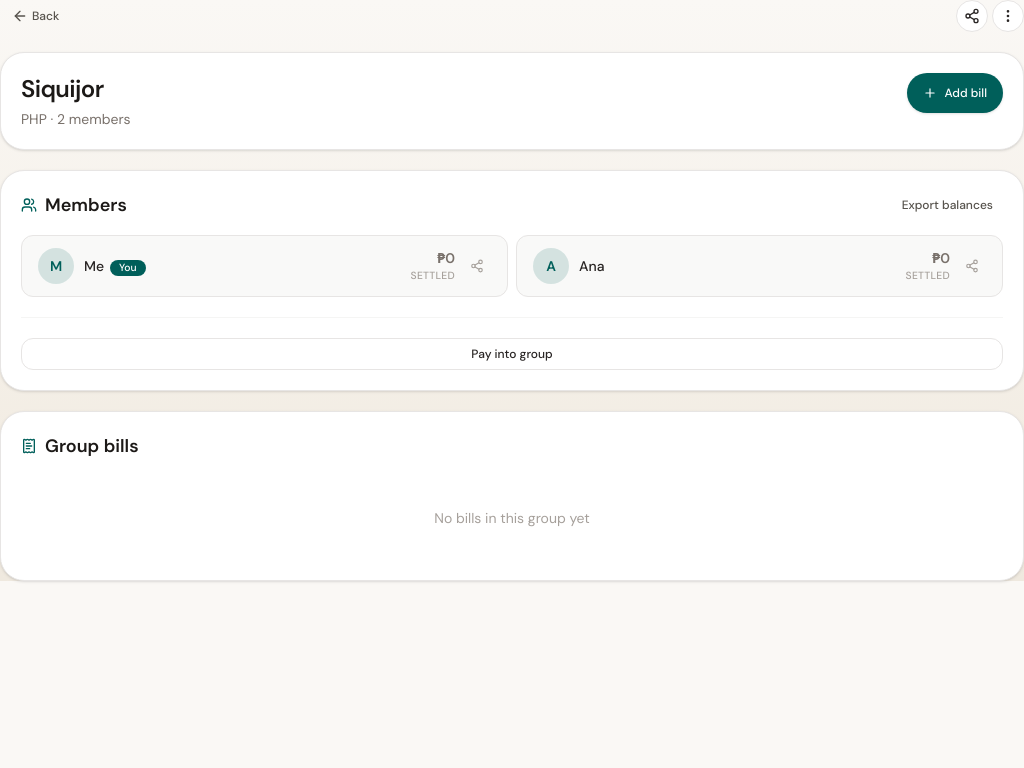
Test: GroupDetailPage payment history, server-paged (C8) › C8: the payments list reads the first page and shows exactly its 20 newest items; no full history
Click the button named "Group options": (1008, 16) [992,0,1023,32]
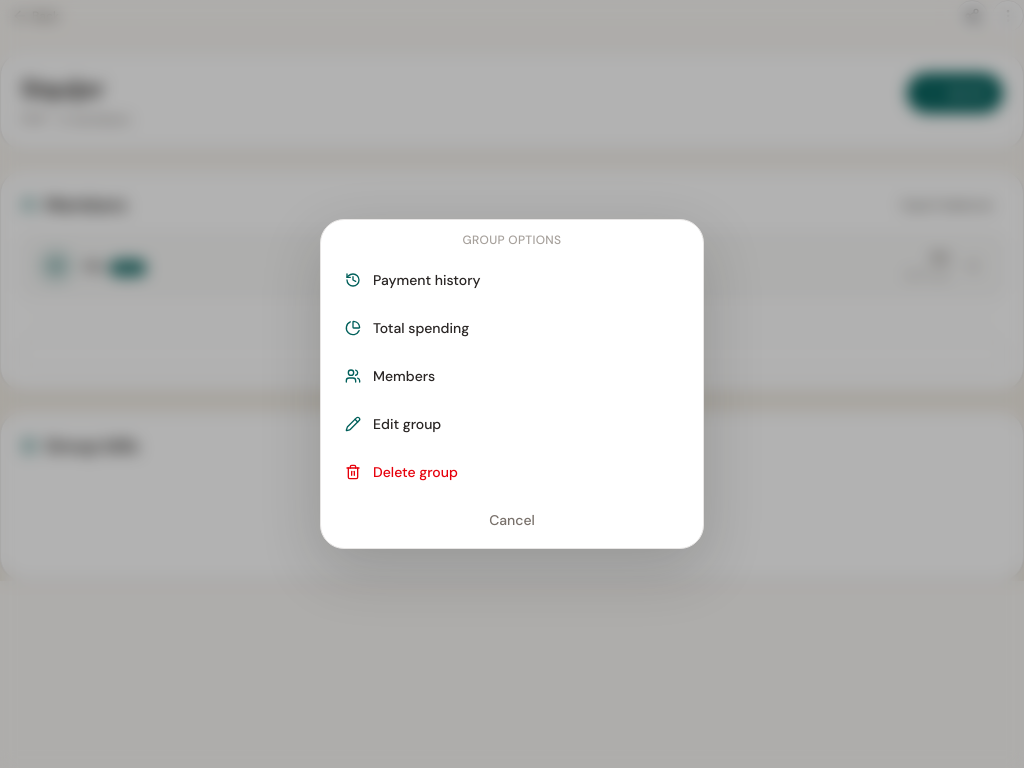
Now the button "Payment history" is shown
Click the button "Payment history": (427, 280) [329,256,695,304]
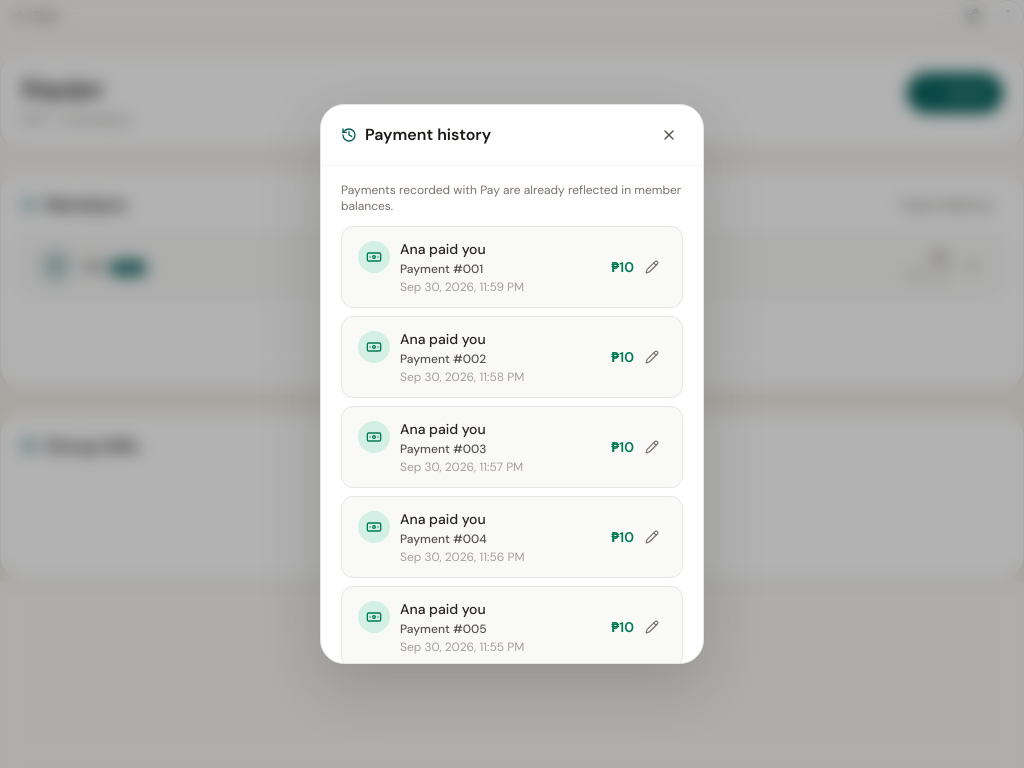
Now the text "Payment #001" is shown, box [400,261,483,277]
